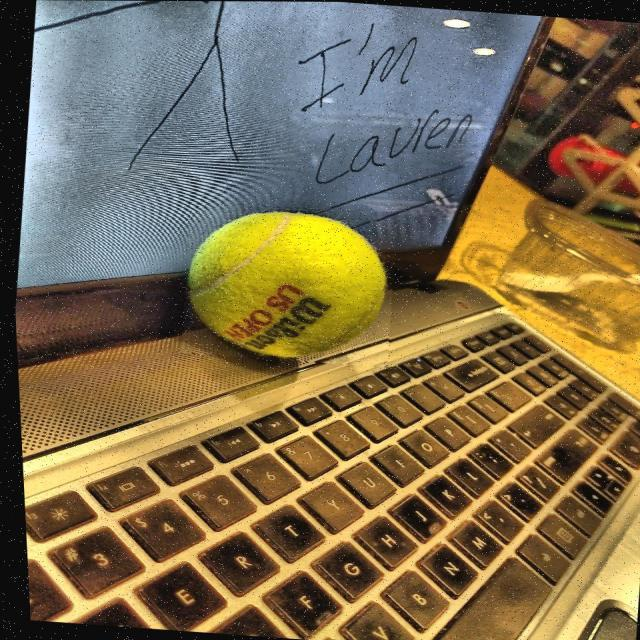tennis-ball: (172, 209, 402, 369)
